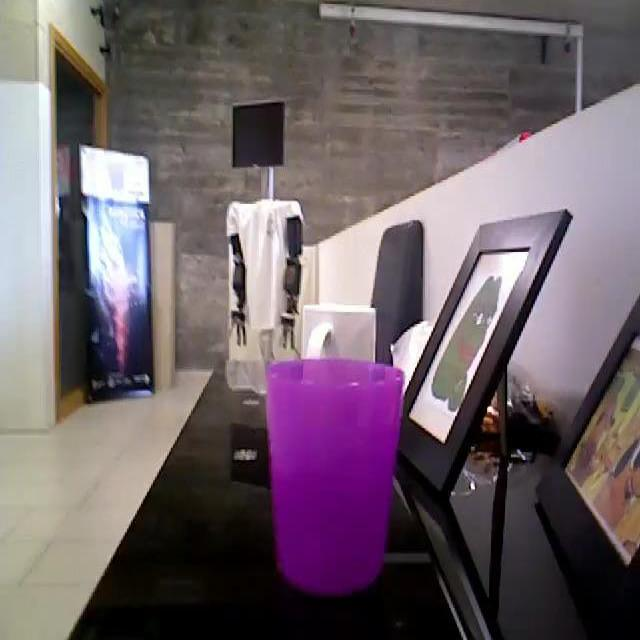cup: (262, 346, 412, 606)
